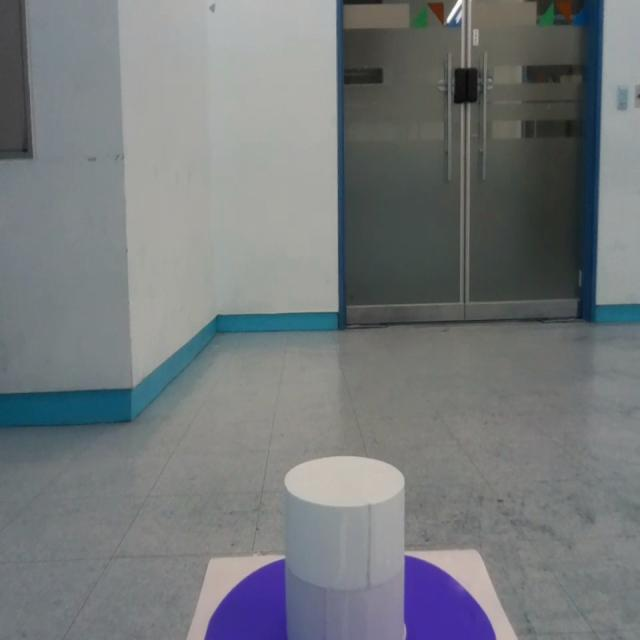cylinder: (282, 457, 406, 640)
